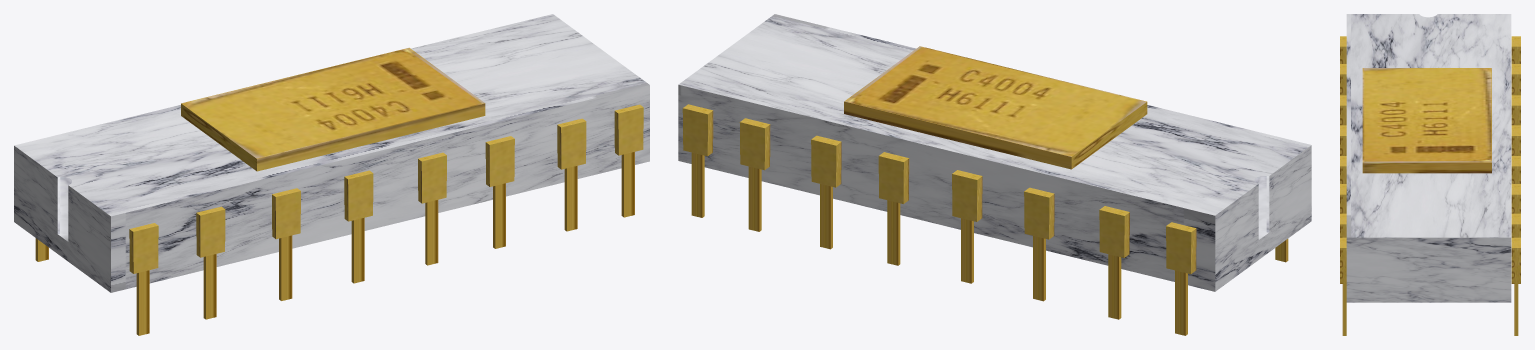
File: intel4004.glb
3 renders of one model, left to right at view 1: azimuth 30°, elevation 25°; view 2: azimuth 150°, elevation 25°; view 3: azimuth 270°, elevation 25°, orthographic. The views are drawn at different scales.
Parts seen in each view (by area): view 1: Cube_0, Cube.001_4, Cube.017_12, Cube.010_19, Cube.016_13, Cube.011_18, Cube.014_15, Cube.015_14, Cube.013_16, Cube.012_17; view 2: Cube_0, Cube.001_4, Cube.003_5, Cube.009_11, Cube.006_8, Cube.008_10, Cube.007_9, Cube.004_6, Cube.002_3, Cube.005_7; view 3: Cube_0, Cube.001_4, Cube.009_11, Cube.010_19, Cube.003_5, Cube.005_7, Cube.004_6, Cube.007_9, Cube.002_3, Cube.006_8, Cube.008_10, Cube.016_13 (+6 smaller).
Part boxes in pixels (x1=…): Cube_0: x1=14, y1=14, x2=649, y2=292; Cube.001_4: x1=181, y1=47, x2=485, y2=171; Cube.017_12: x1=129, y1=223, x2=158, y2=335; Cube.010_19: x1=614, y1=104, x2=643, y2=217; Cube.016_13: x1=196, y1=206, x2=225, y2=319; Cube.011_18: x1=557, y1=118, x2=586, y2=231; Cube.014_15: x1=344, y1=170, x2=373, y2=283; Cube.015_14: x1=272, y1=188, x2=300, y2=300; Cube.013_16: x1=418, y1=152, x2=446, y2=265; Cube.012_17: x1=485, y1=136, x2=514, y2=248; Cube_0: x1=678, y1=14, x2=1311, y2=291; Cube.001_4: x1=844, y1=46, x2=1147, y2=169; Cube.003_5: x1=1099, y1=206, x2=1129, y2=319; Cube.009_11: x1=682, y1=104, x2=713, y2=217; Cube.006_8: x1=878, y1=152, x2=909, y2=265; Cube.008_10: x1=739, y1=118, x2=770, y2=231; Cube.007_9: x1=811, y1=135, x2=841, y2=249; Cube.004_6: x1=1024, y1=187, x2=1054, y2=301; Cube.002_3: x1=1166, y1=222, x2=1196, y2=335; Cube.005_7: x1=952, y1=170, x2=982, y2=283; Cube_0: x1=1346, y1=14, x2=1511, y2=302; Cube.001_4: x1=1362, y1=68, x2=1491, y2=173; Cube.009_11: x1=1511, y1=237, x2=1520, y2=335; Cube.010_19: x1=1340, y1=237, x2=1346, y2=335; Cube.003_5: x1=1511, y1=64, x2=1520, y2=95; Cube.005_7: x1=1511, y1=125, x2=1520, y2=155; Cube.004_6: x1=1511, y1=95, x2=1520, y2=125; Cube.007_9: x1=1511, y1=184, x2=1520, y2=213; Cube.002_3: x1=1511, y1=36, x2=1520, y2=63; Cube.006_8: x1=1511, y1=156, x2=1520, y2=183; Cube.008_10: x1=1511, y1=213, x2=1520, y2=237; Cube.016_13: x1=1340, y1=64, x2=1346, y2=95.
Bounding box in the file's own units: 4.72 × 1.14 × 1.61.
Materials: 18 (18 with a texture image).
